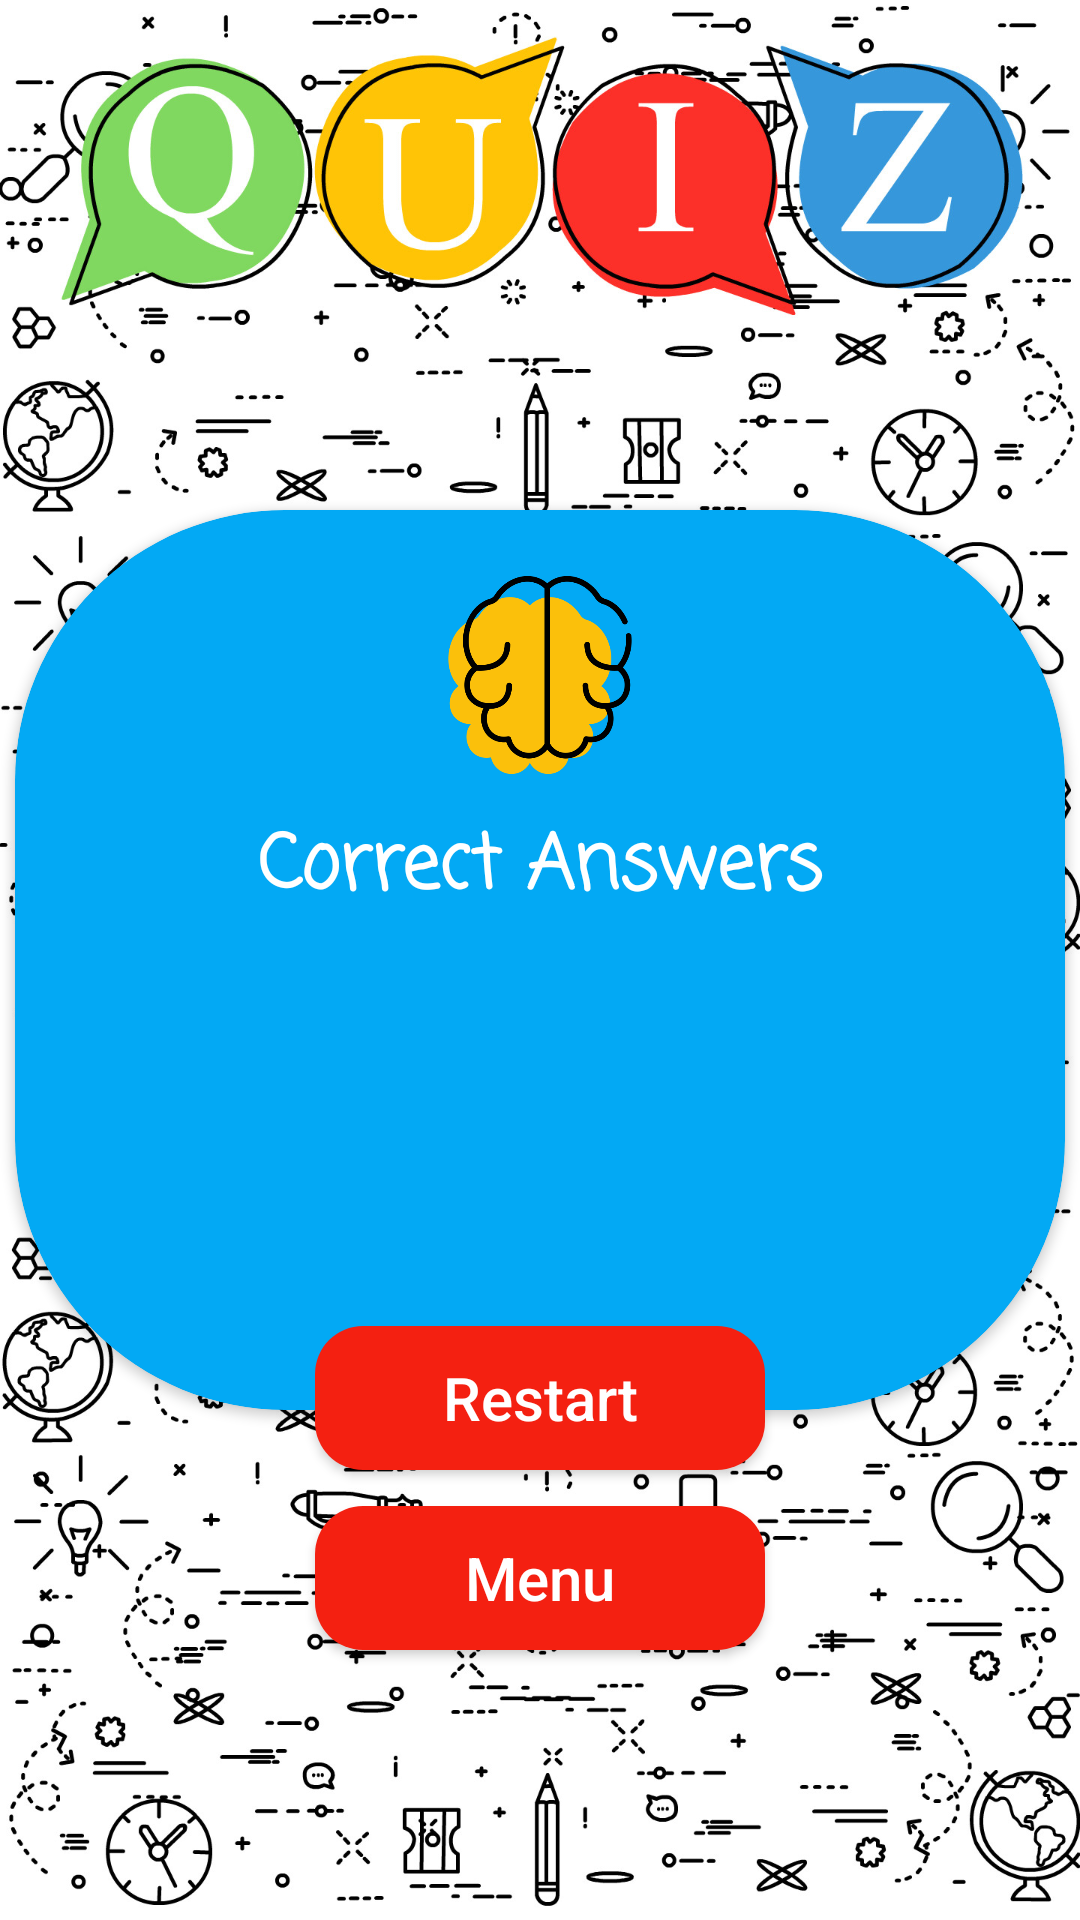

Named icons in this screenshot (1080px x 1920px) and their centers, (x,y):
brainwin: (540,675)
